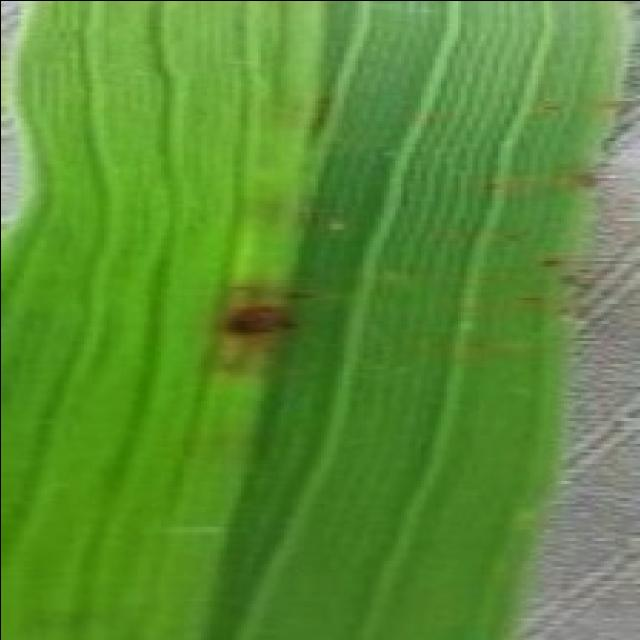Unhealthy: (215, 285, 328, 373), (390, 336, 523, 361), (475, 173, 569, 198), (567, 170, 598, 193), (538, 251, 564, 270), (516, 294, 546, 307), (541, 102, 564, 111)
